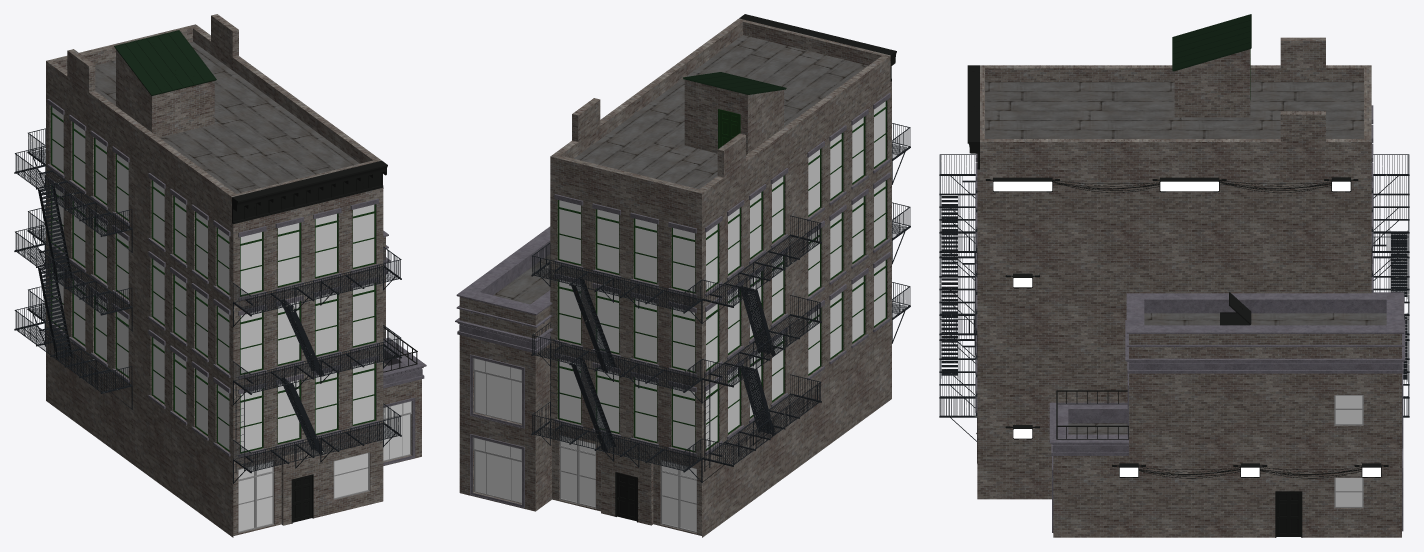
Rendered from Building_28.fbx.
The picture shows the model from 3 angles, left to right: view 1: azimuth 30°, elevation 25°; view 2: azimuth 150°, elevation 25°; view 3: azimuth 270°, elevation 25°; orthographic projection. The views are drawn at different scales.
Parts seen in each view (by area): view 1: Building_28_LOD0; view 2: Building_28_LOD0; view 3: Building_28_LOD0.
Boxes of the visible parts, left/top/right/bottom form: Building_28_LOD0: left=14, top=14, right=426, bottom=537; Building_28_LOD0: left=455, top=14, right=910, bottom=537; Building_28_LOD0: left=939, top=14, right=1409, bottom=537.
Size of what is drawn, in the model's own units: 1288 by 1838 by 1891.
